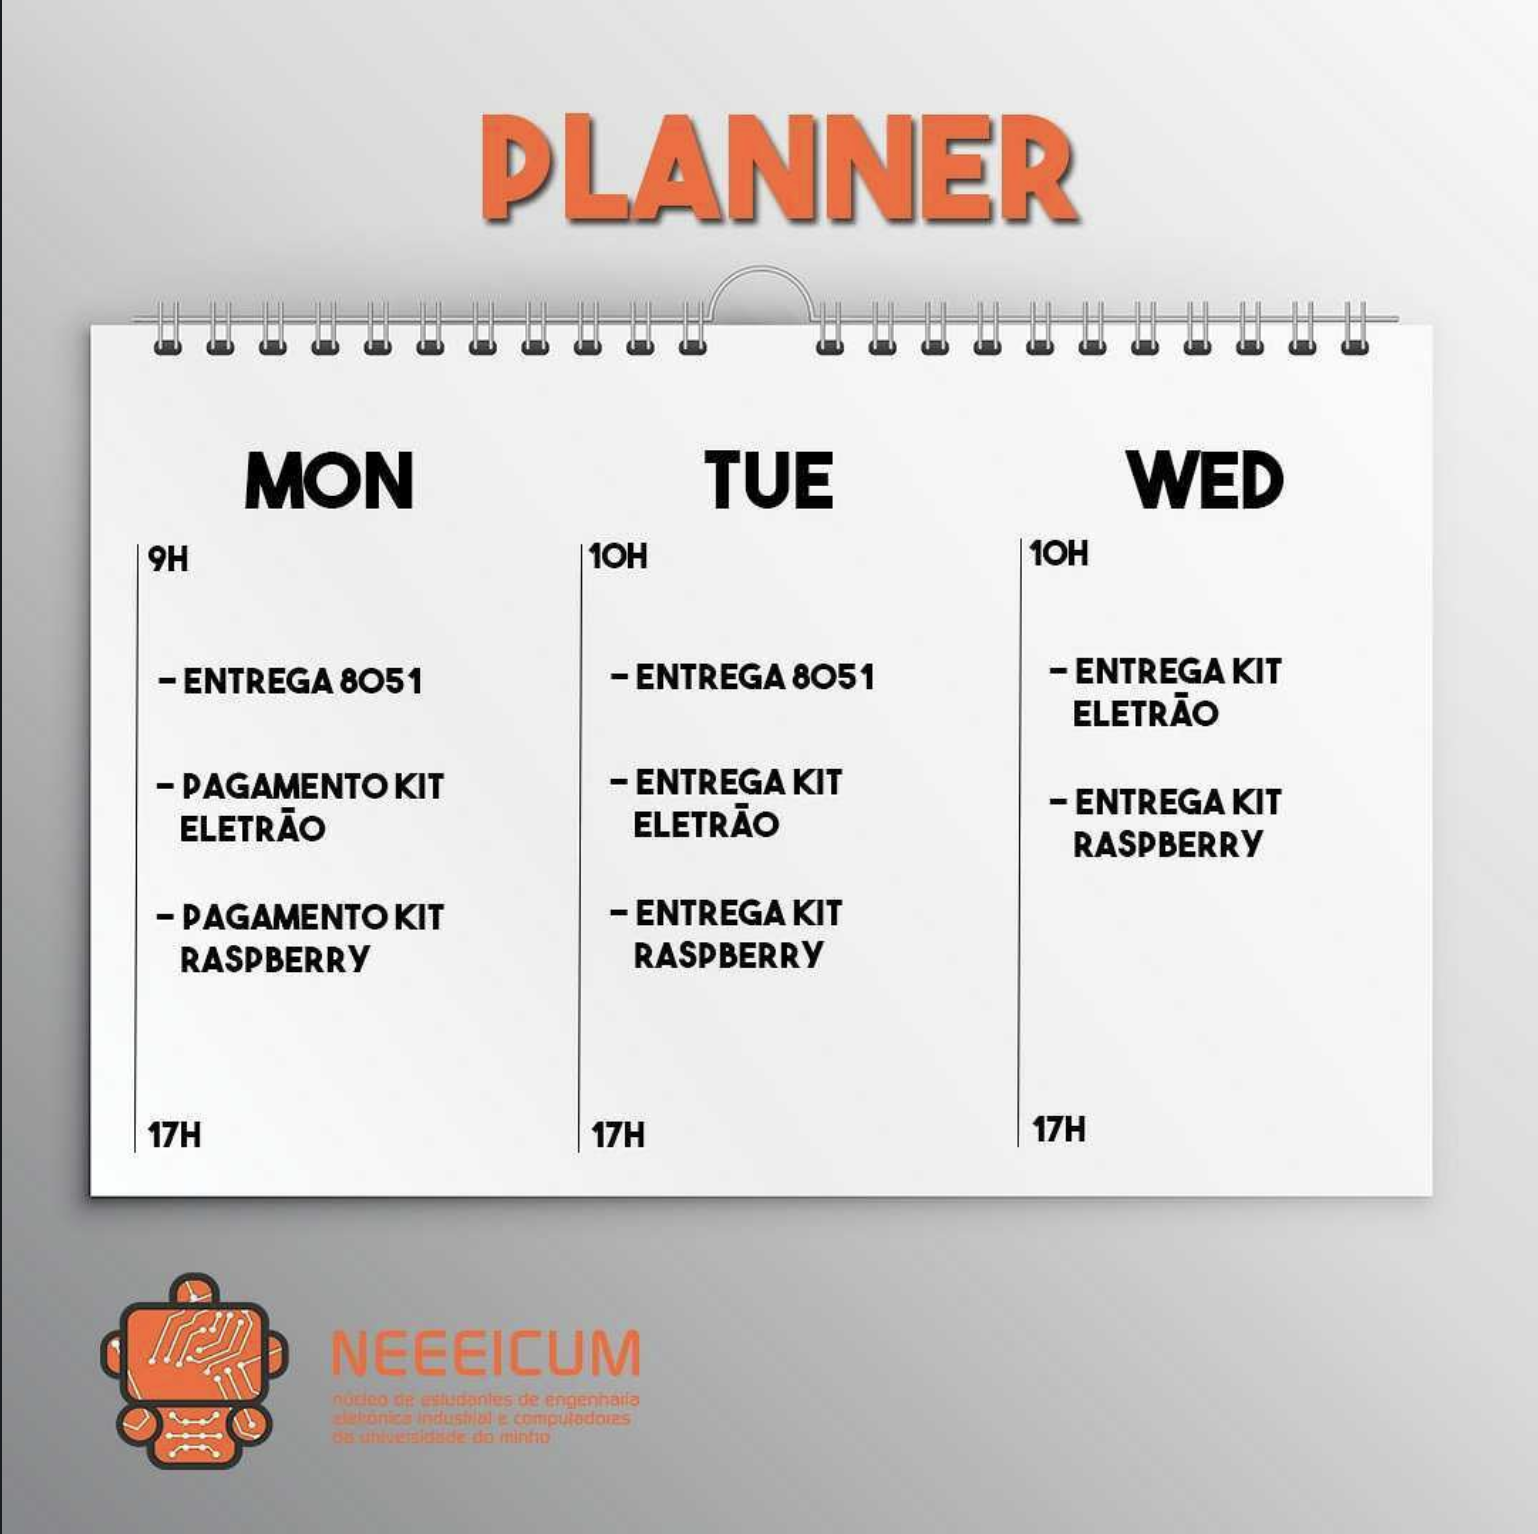neeeicum: (105, 1270, 291, 1479)
